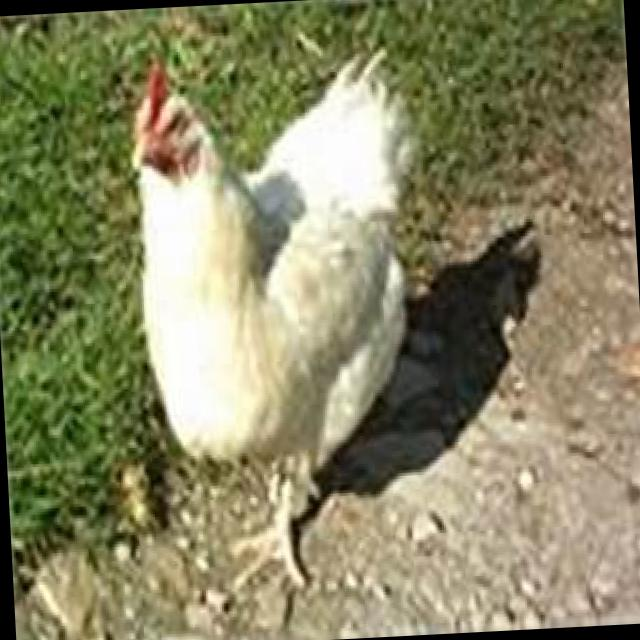chicken: (51, 11, 460, 582)
